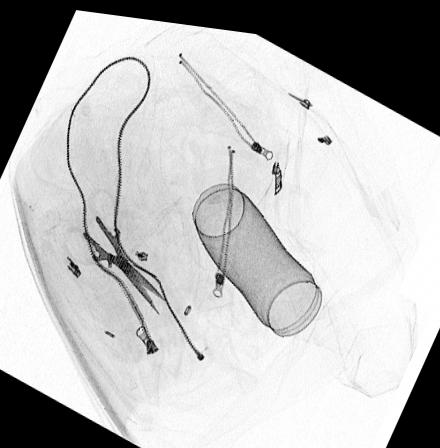Scissors: (60, 184, 170, 316)
